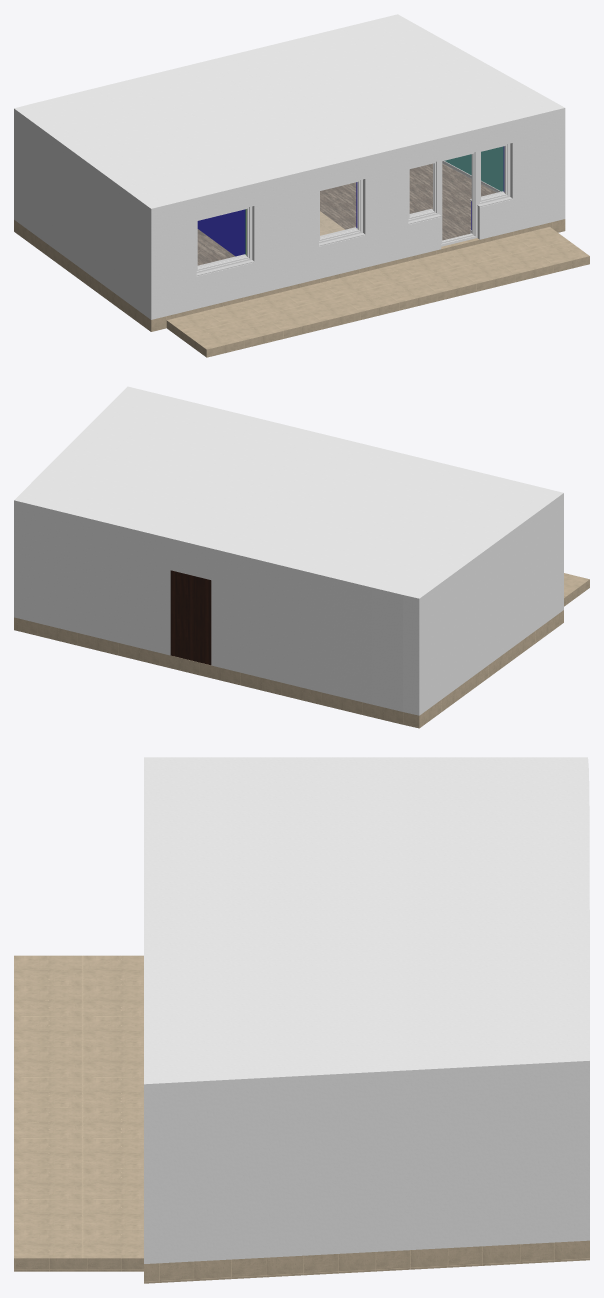
Rendered from Ablewicza 15.fbx.
3 views of the same model, one above another, from view 1: azimuth 30°, elevation 25°; view 2: azimuth 150°, elevation 25°; view 3: azimuth 270°, elevation 25° (orthographic). The views are drawn at different scales.
Visible parts, largest first — view 1: Flat, Window, Windowsill; view 2: Flat, Door; view 3: Flat.
Part boxes in pixels (left/top/right/bottom): Flat: left=14, top=14, right=589, bottom=357; Window: left=196, top=143, right=510, bottom=273; Windowsill: left=196, top=191, right=512, bottom=275; Flat: left=14, top=386, right=589, bottom=728; Door: left=170, top=570, right=211, bottom=665; Flat: left=14, top=757, right=589, bottom=1283.
Size of the model in its own units: 1073 by 305 by 798.
